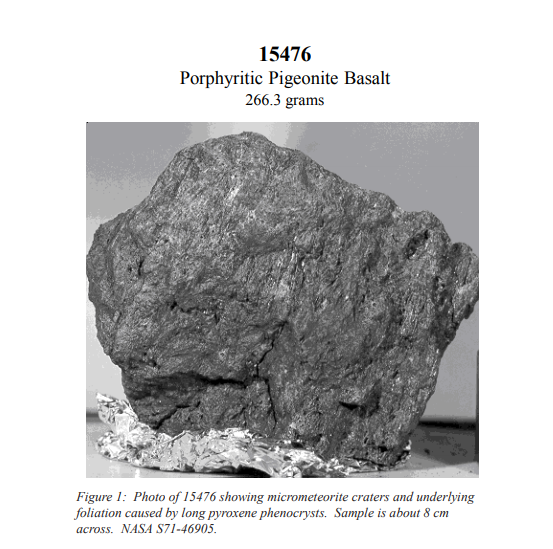Basalt: (82, 133, 480, 479)
